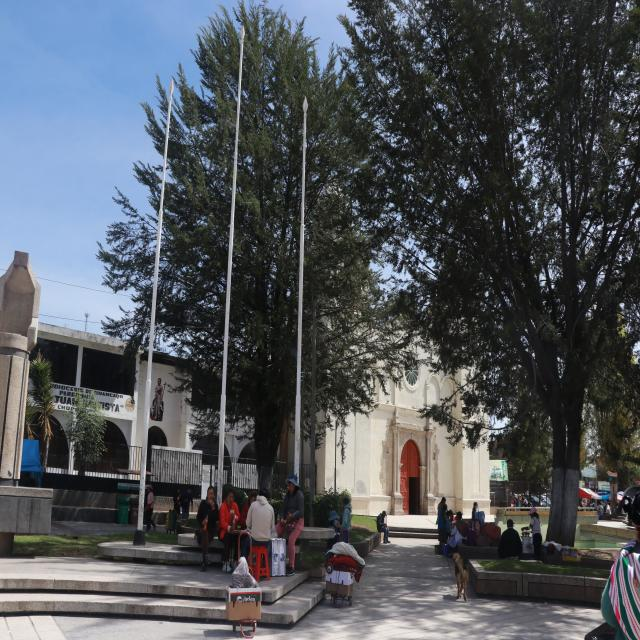PORTADA CENTRAL: (385, 406, 435, 518)
colonial-architecture-: (294, 214, 498, 518)
